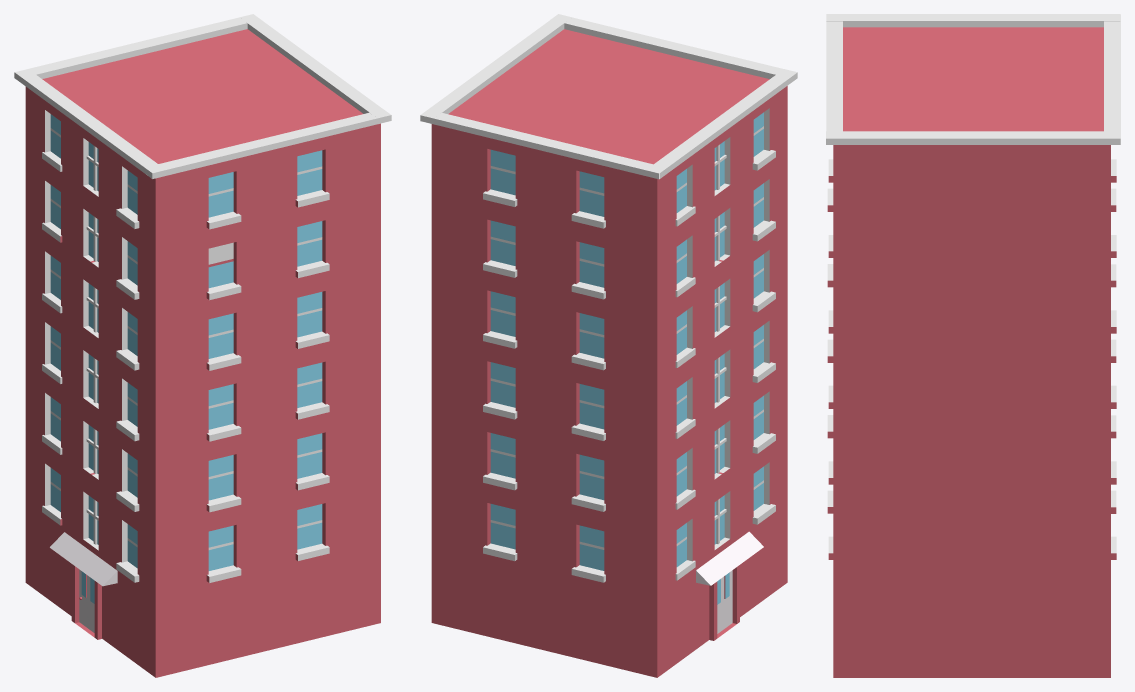
The model's file is prédio.fbx.
3 renders of one model, left to right at view 1: azimuth 30°, elevation 25°; view 2: azimuth 150°, elevation 25°; view 3: azimuth 270°, elevation 25°, orthographic. The views are drawn at different scales.
Parts seen in each view (by area): view 1: Cube; view 2: Cube; view 3: Cube.
Part boxes in pixels (<box>): Cube: <box>14,14,391,677</box>; Cube: <box>420,14,797,677</box>; Cube: <box>826,14,1120,677</box>.
Bounding box in the file's own units: 1097 × 1062 × 2159.
